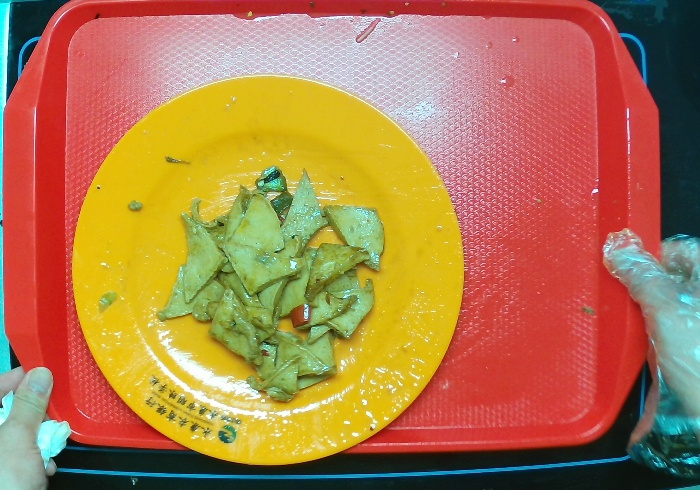YKMZ-Ju_Se_Mian_Pan: (73, 69, 463, 483)
